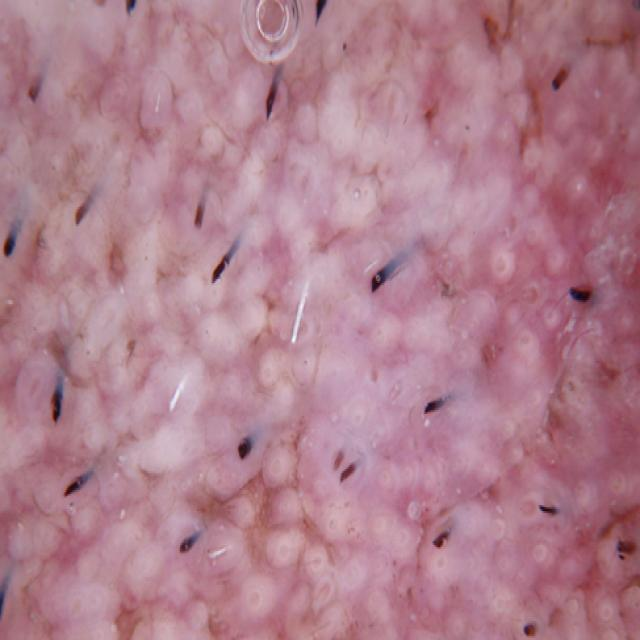Keratosis: (24, 161, 593, 634), (408, 43, 640, 501)
